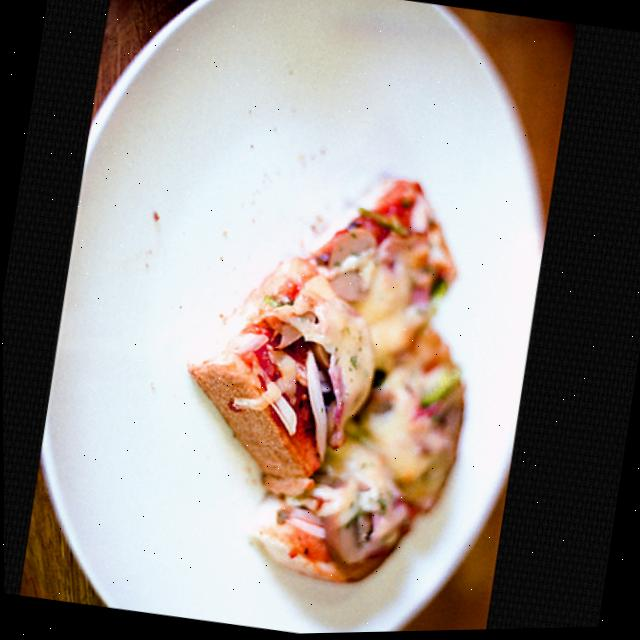面包点心: (153, 144, 511, 616)
